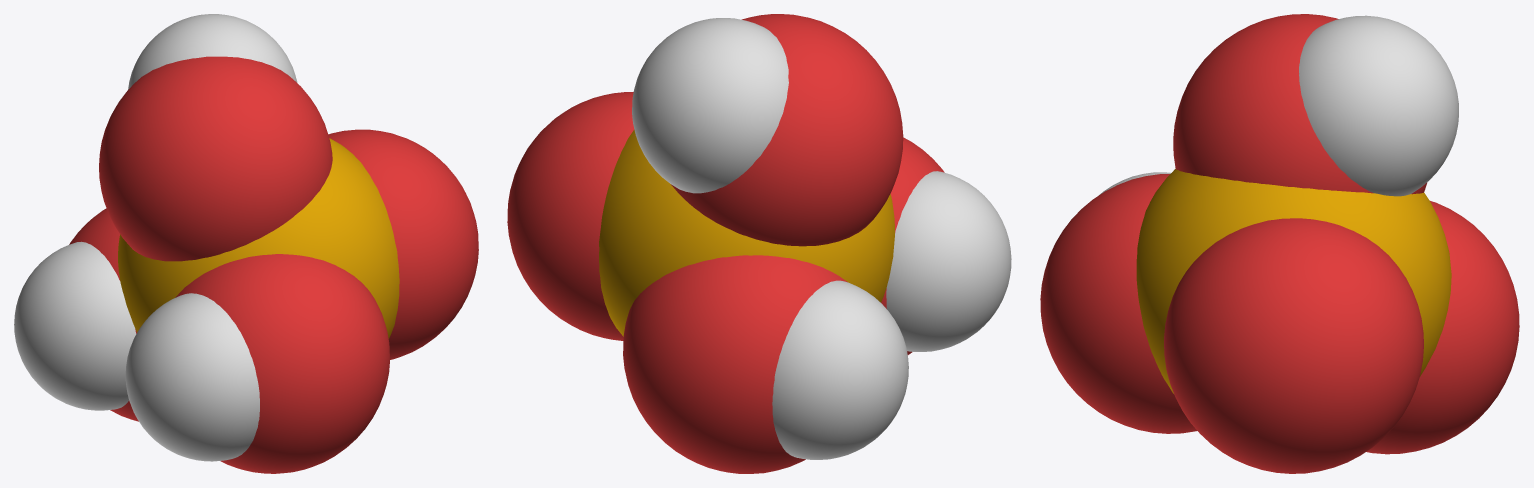
Rendered from 1004-CPK-color-print_NIH3D.glb.
The picture shows the model from 3 angles, left to right: view 1: azimuth 30°, elevation 25°; view 2: azimuth 150°, elevation 25°; view 3: azimuth 270°, elevation 25°; orthographic projection. The views are drawn at different scales.
Visible parts, largest first — view 1: atoms; view 2: atoms; view 3: atoms.
Part boxes in pixels (x1=…): atoms: x1=14, y1=14, x2=478, y2=473; atoms: x1=507, y1=14, x2=1011, y2=473; atoms: x1=1040, y1=14, x2=1519, y2=473.
Size of the model in its own units: 5.82 by 5.54 by 5.52.
